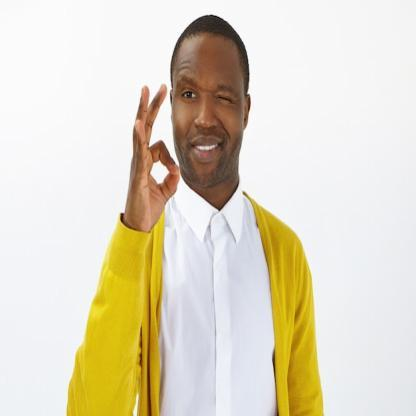ok: (122, 78, 181, 231)
